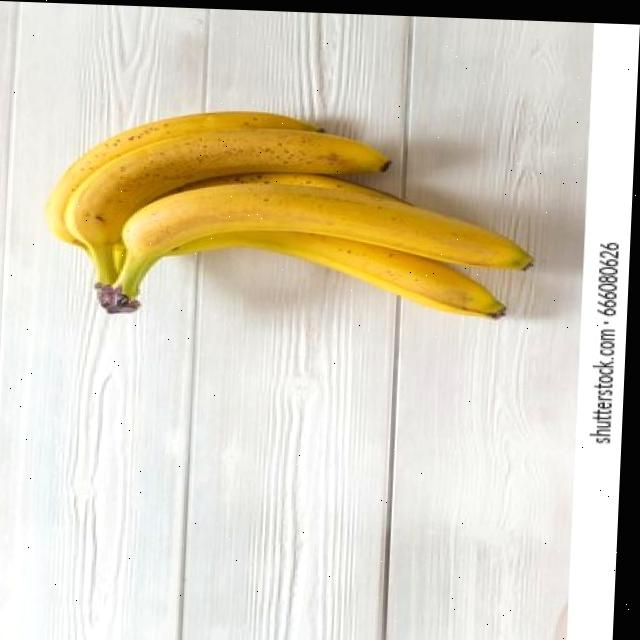banana: (41, 100, 549, 333)
